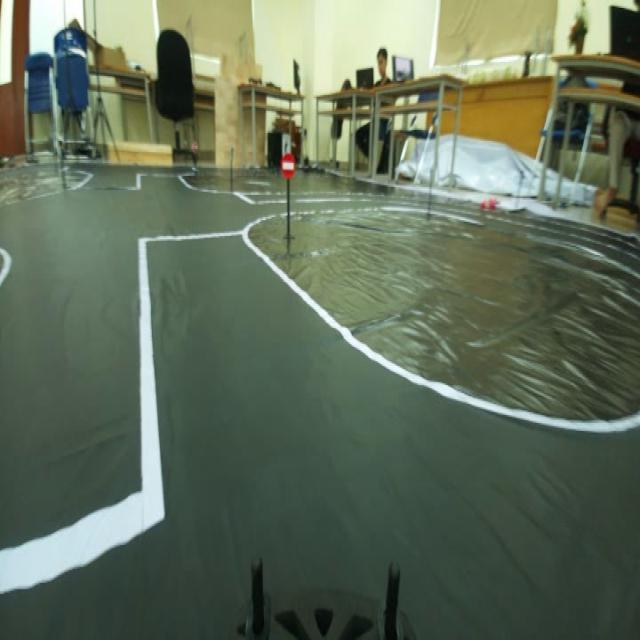no_entry: (276, 144, 300, 184)
